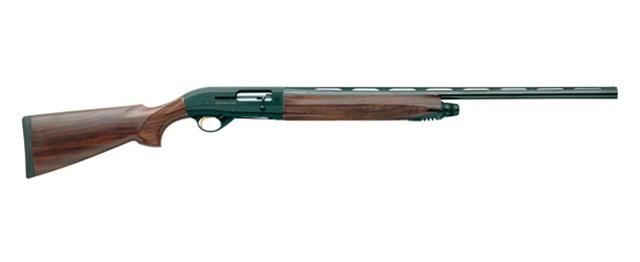Arma Real: (19, 85, 619, 179)
